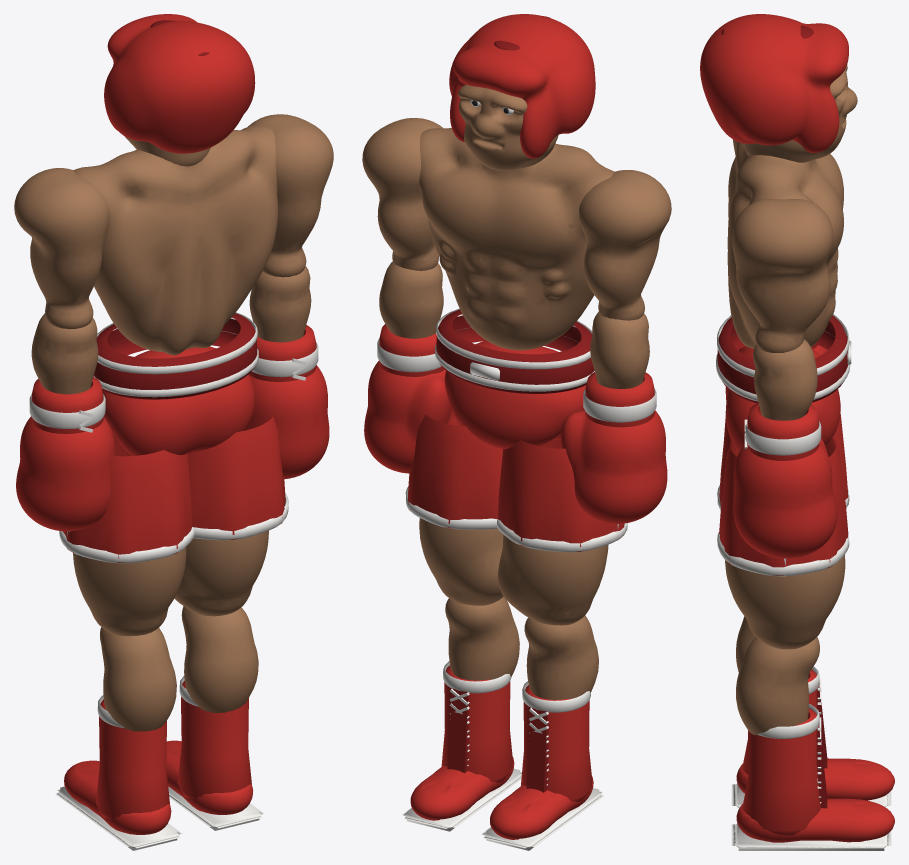
The model's file is boxer.glb.
3 renders of one model, left to right at view 1: azimuth 30°, elevation 25°; view 2: azimuth 150°, elevation 25°; view 3: azimuth 270°, elevation 25°, orthographic. The views are drawn at different scales.
Parts seen in each view (by area): view 1: spine, head, hip_l, kn_l, hips, kn_r, hip_r, fist_l, sh_l, fist_r, sh_r, el_l (+1 smaller); view 2: spine, head, kn_l, kn_r, hip_l, hips, hip_r, fist_l, sh_l, fist_r, sh_r, el_r (+1 smaller); view 3: kn_r, head, fist_r, sh_r, hip_r, spine, hips, kn_l, el_r, hip_l.
Part boxes in pixels (<box>): spine: <box>73,125,278,355</box>; head: <box>104,14,255,166</box>; hip_l: <box>59,432,194,636</box>; kn_l: <box>55,627,182,850</box>; hips: <box>93,312,258,455</box>; kn_r: <box>166,606,264,830</box>; hip_r: <box>174,416,288,616</box>; fist_l: <box>16,377,114,531</box>; sh_l: <box>14,168,109,329</box>; fist_r: <box>245,325,329,479</box>; sh_r: <box>248,114,333,277</box>; el_l: <box>31,313,98,394</box>; spine: <box>419,128,614,350</box>; head: <box>449,14,595,170</box>; kn_l: <box>481,615,604,850</box>; kn_r: <box>402,596,521,831</box>; hip_l: <box>497,439,627,625</box>; hips: <box>435,309,594,449</box>; hip_r: <box>405,414,503,605</box>; fist_l: <box>561,372,667,523</box>; sh_l: <box>579,170,671,320</box>; fist_r: <box>364,324,461,473</box>; sh_r: <box>362,118,442,270</box>; el_r: <box>379,261,443,338</box>; kn_r: <box>731,637,894,850</box>; head: <box>700,14,857,162</box>; fist_r: <box>733,402,837,558</box>; sh_r: <box>732,199,833,352</box>; hip_r: <box>717,437,849,649</box>; spine: <box>727,142,843,348</box>; hips: <box>716,314,851,452</box>; kn_l: <box>731,616,894,808</box>; el_r: <box>753,339,817,420</box>; hip_l: <box>717,413,849,509</box>.
Size of the model in its own units: 0.7454 by 1.86 by 0.4118.
